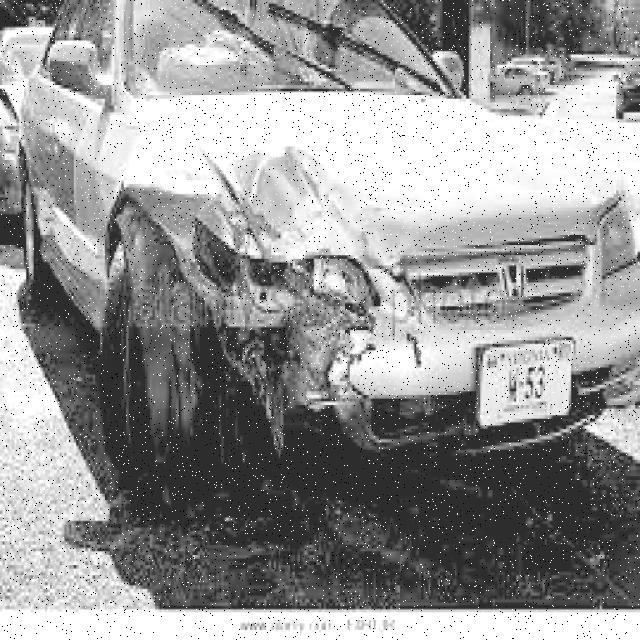car damage: (100, 137, 425, 477)
